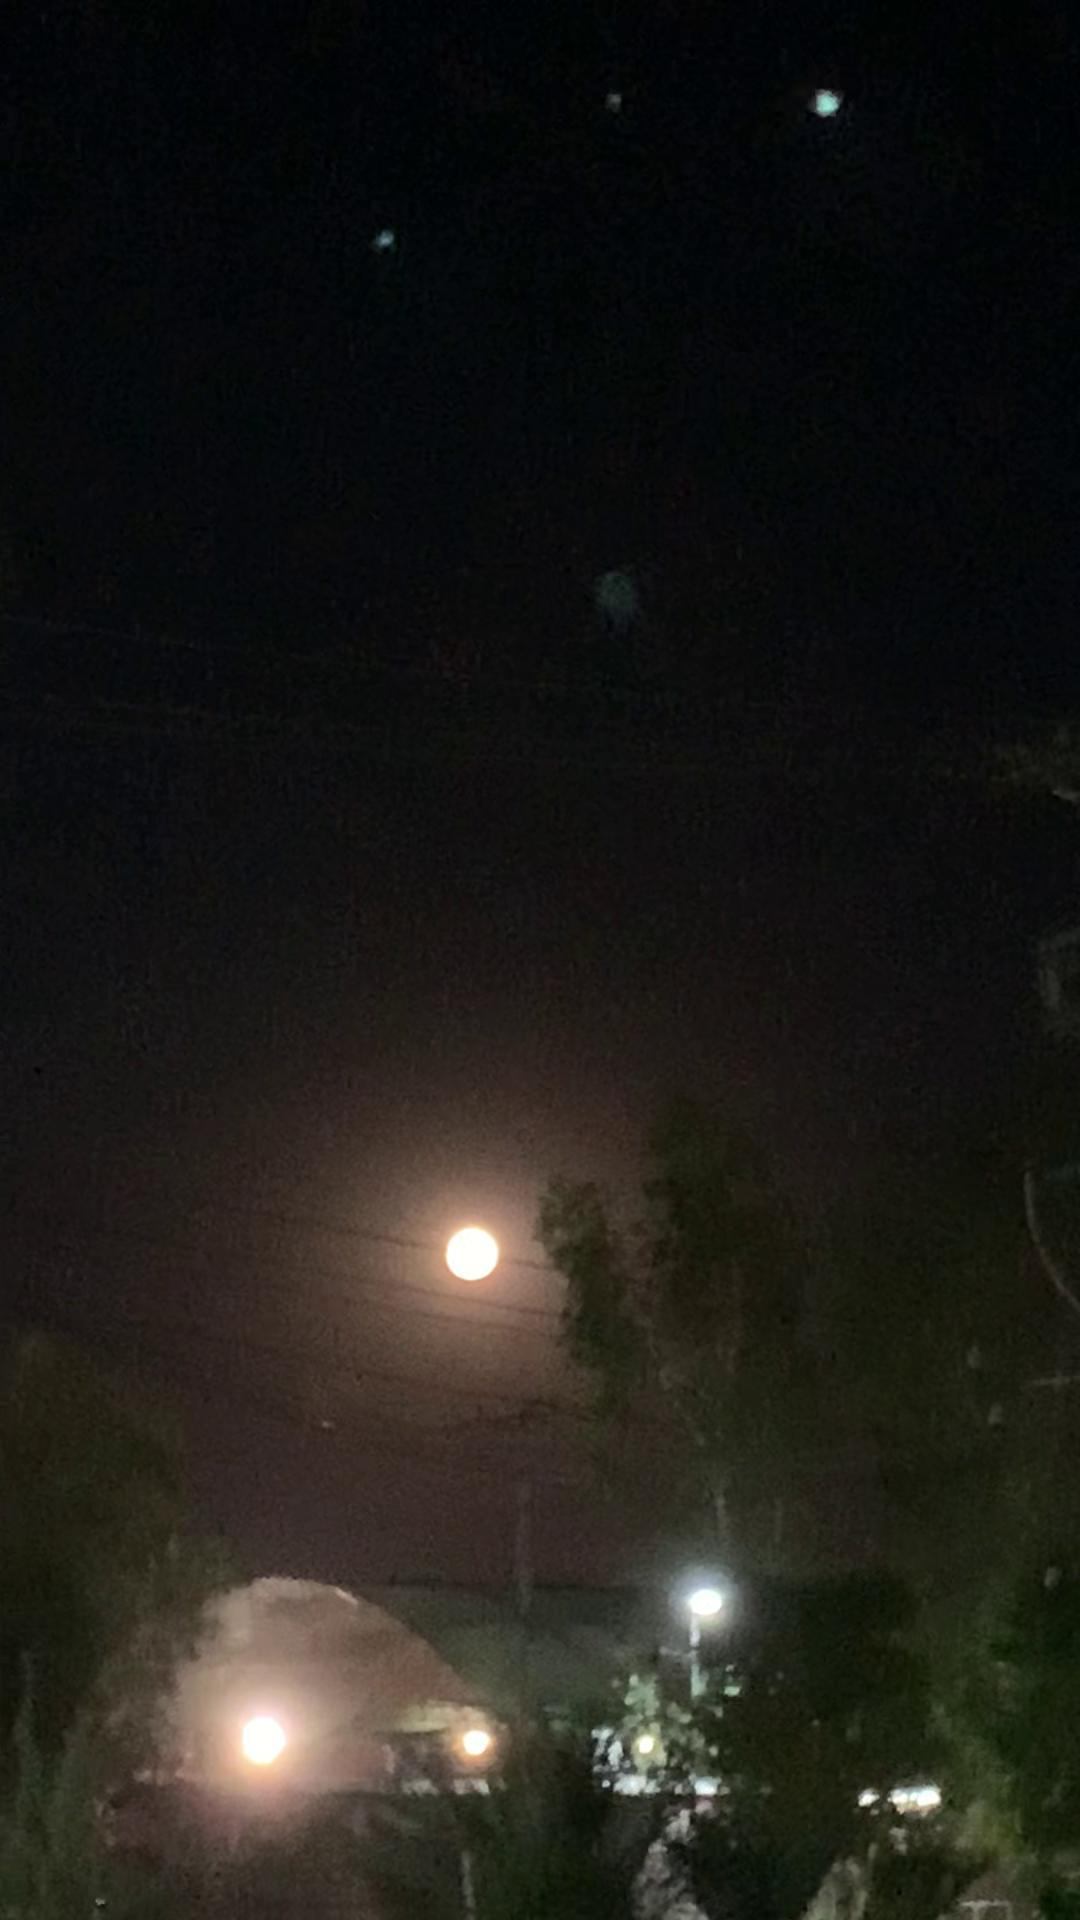moon: (425, 1207, 513, 1283)
